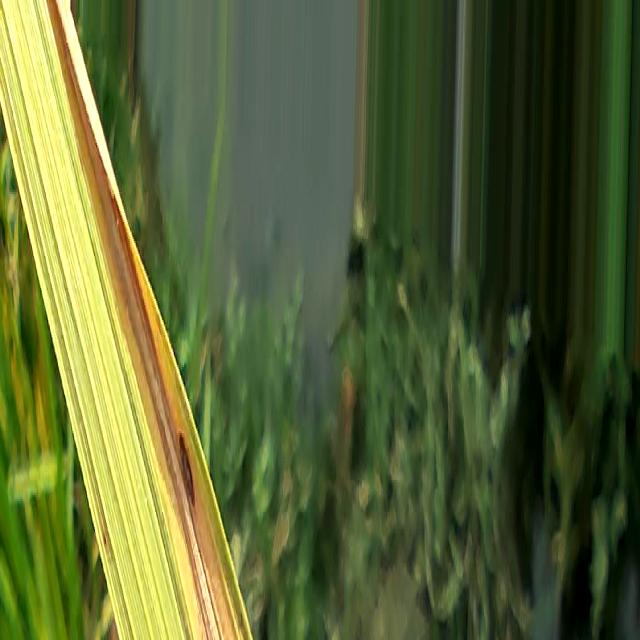LEAF BLAST: (179, 435, 194, 508)
